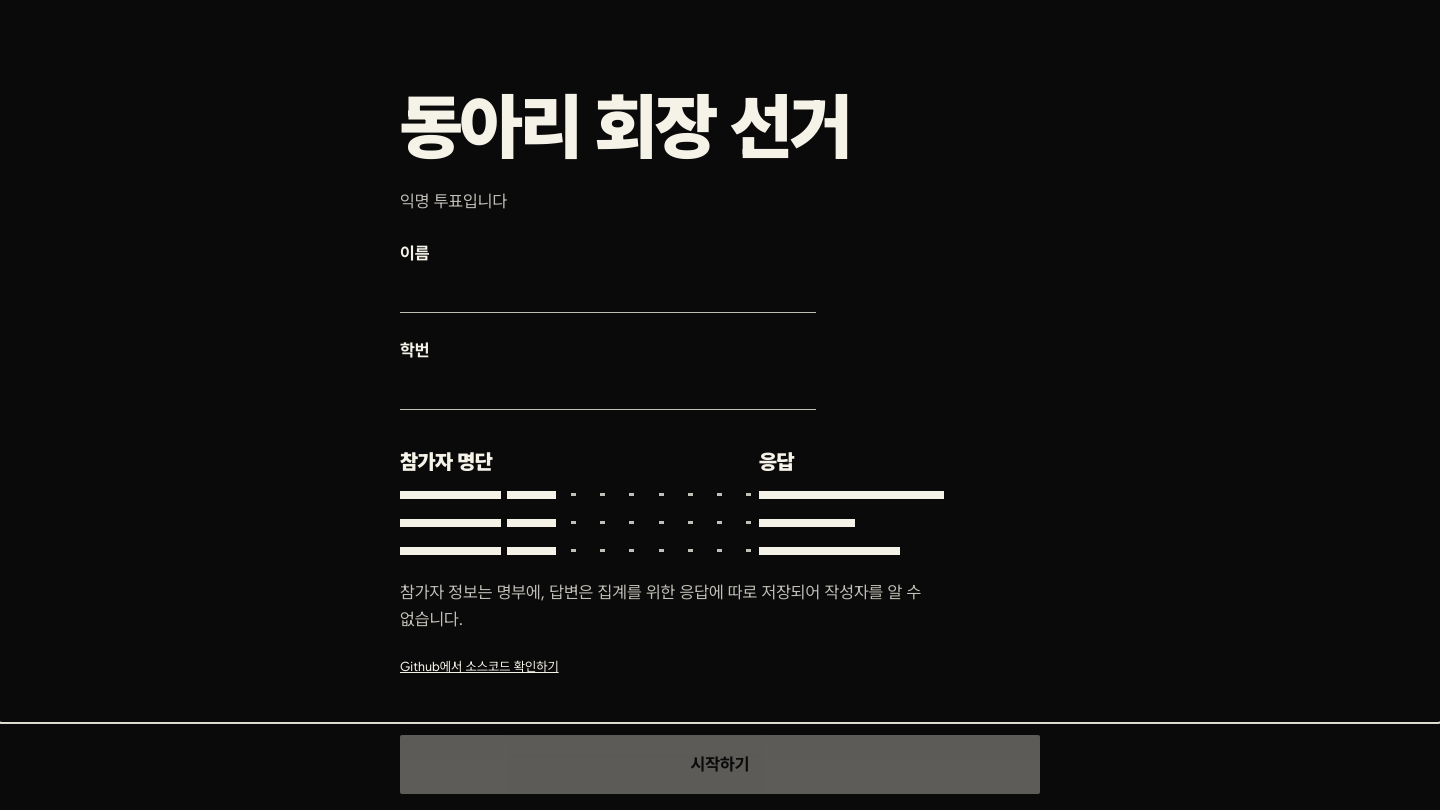
Test case: 응답과 제출 › 시작하면 문항이 보인다
expect the heading "동아리 회장 선거" is shown: met, box left=400, top=83, right=850, bottom=169
In the field labelled "이름": (608, 294) left=400, top=275, right=816, bottom=313, type "홍길동"
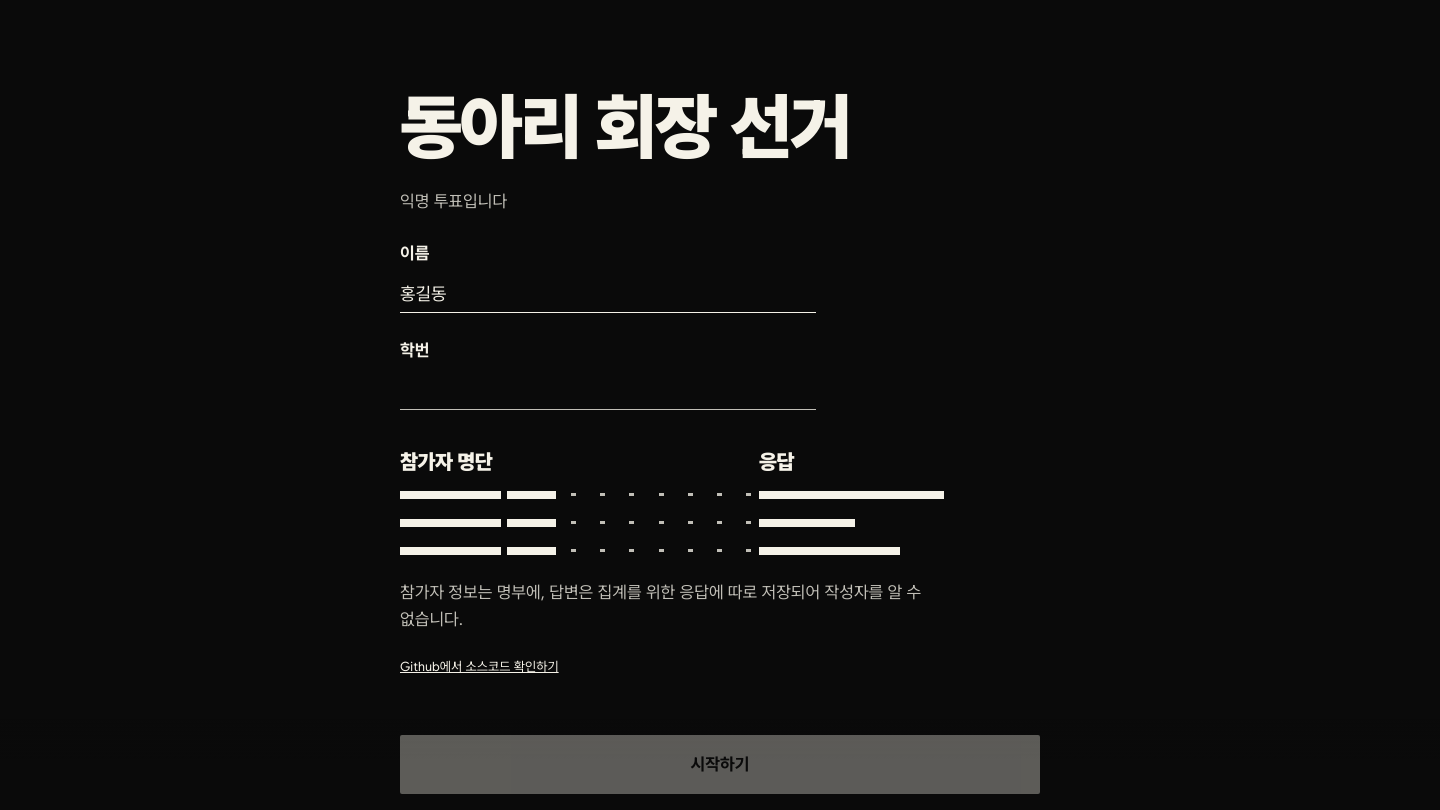
In the field labelled "학번": (608, 391) left=400, top=372, right=816, bottom=410, type "20250001"
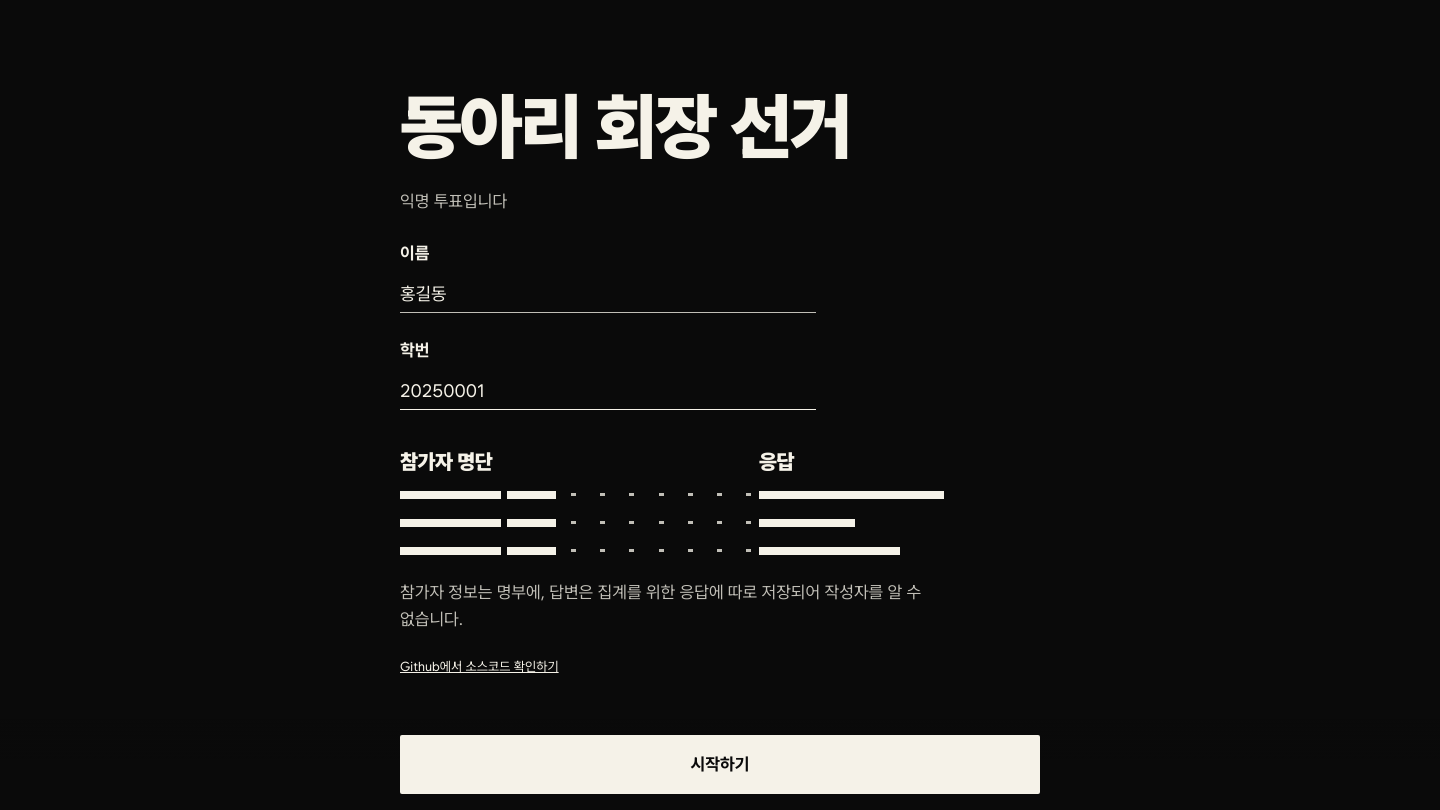
Click the button "시작하기": (720, 764) left=400, top=735, right=1040, bottom=794
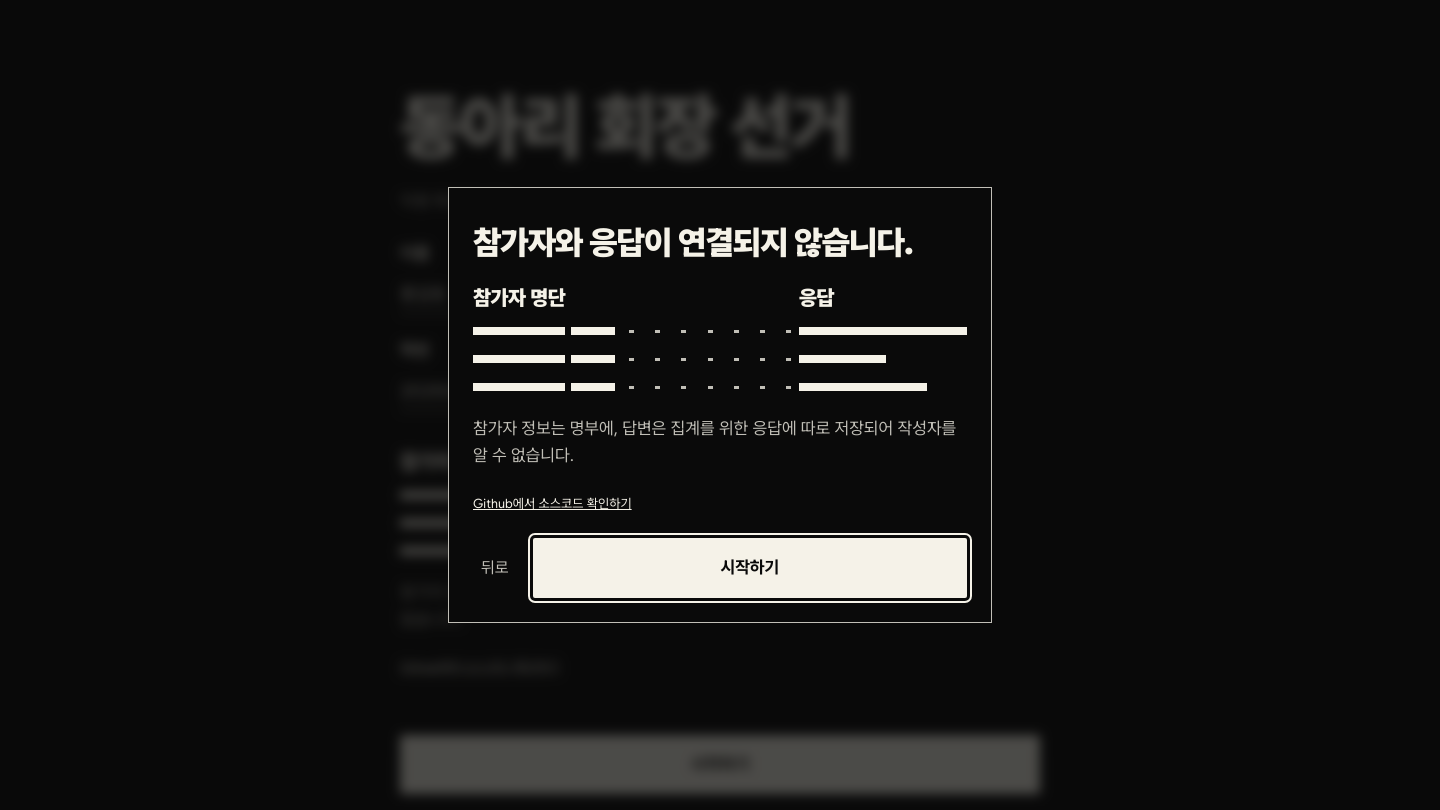
Click the button "시작하기": (750, 568) left=533, top=538, right=967, bottom=598
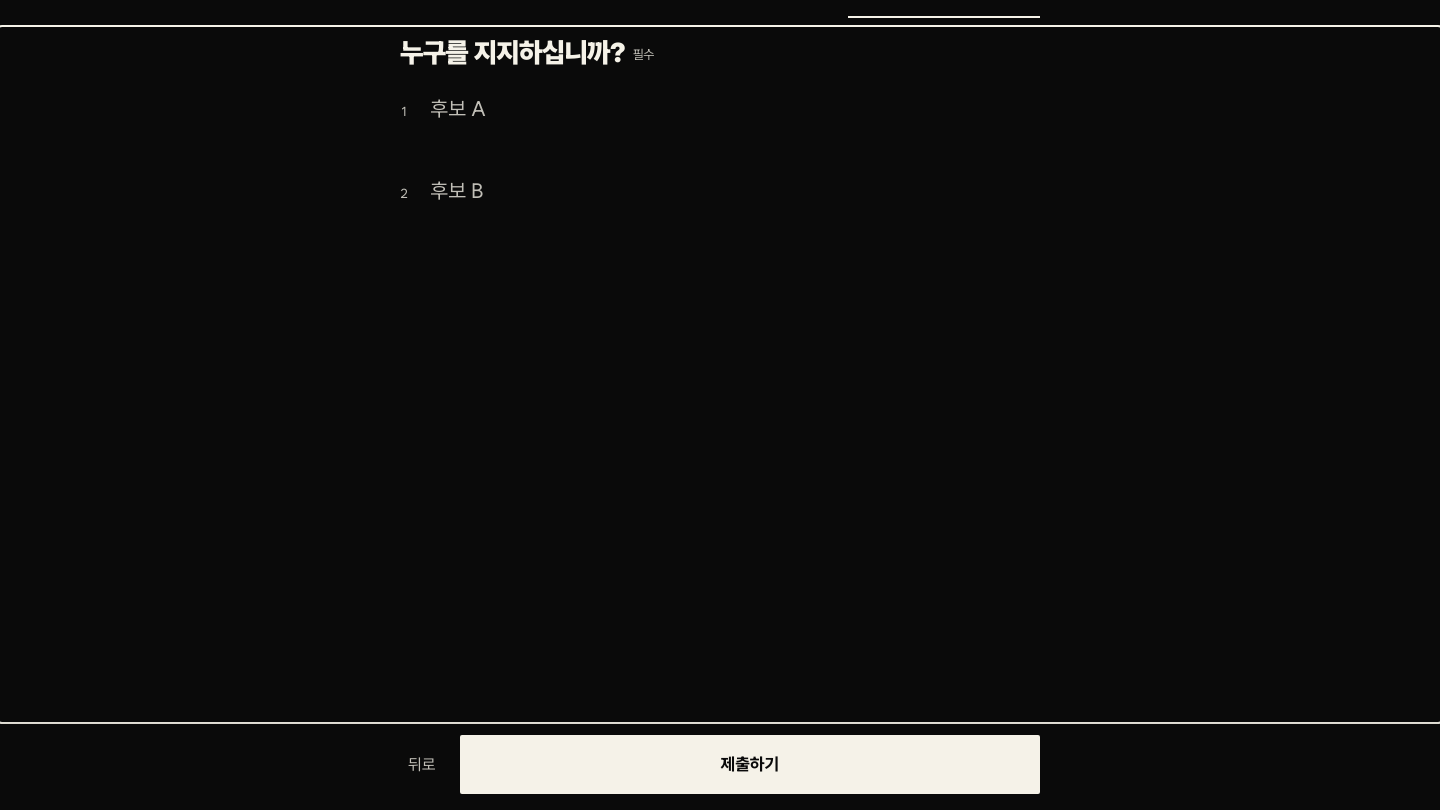
expect the text "누구를 지지하십니까?필수" is shown: met, box left=400, top=38, right=654, bottom=68
